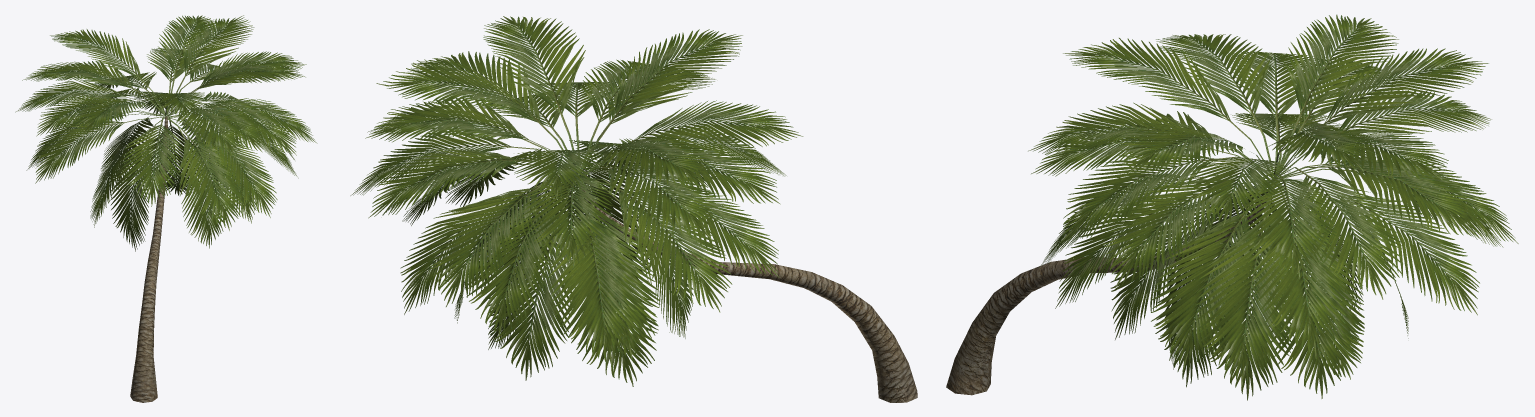
The model's file is tree3(Bugado).fbx.
3 views of the same model, side by side, from view 1: azimuth 30°, elevation 25°; view 2: azimuth 150°, elevation 25°; view 3: azimuth 270°, elevation 25° (orthographic). The views are drawn at different scales.
Visible parts, largest first — view 1: Palm3; view 2: Palm3; view 3: Palm3.
Part boxes in pixels (x1,y1,x2,y2): Palm3: [15, 15, 317, 402]; Palm3: [350, 16, 917, 402]; Palm3: [946, 14, 1518, 400].
Bounding box in the file's own units: 450 × 396 × 521.
